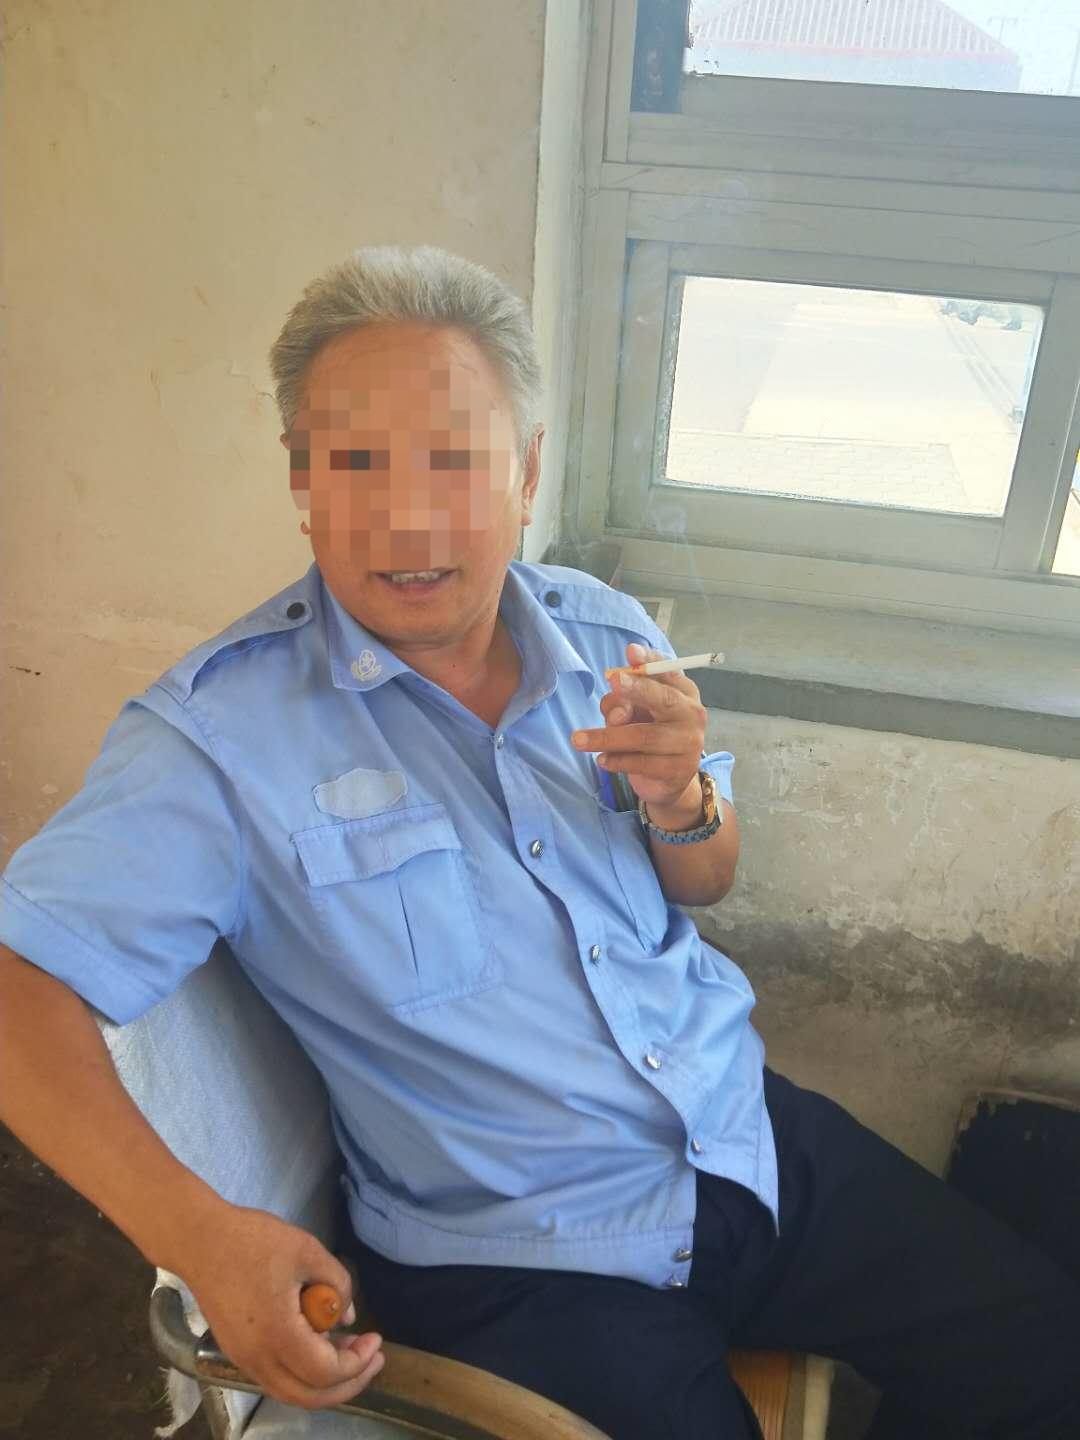smoke: (598, 651, 732, 688)
